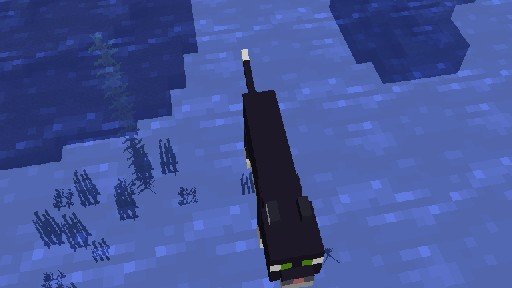cat: (240, 48, 325, 288)
